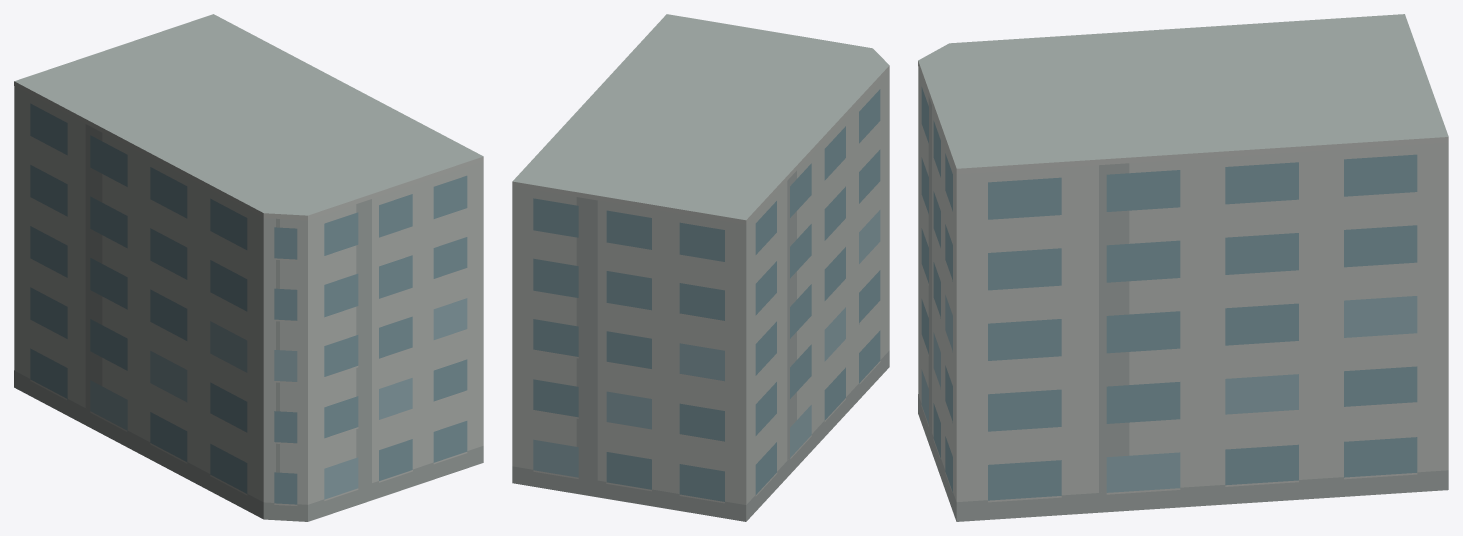
File: survey-upis-32574331.glb
The picture shows the model from 3 angles, left to right: view 1: azimuth 30°, elevation 25°; view 2: azimuth 150°, elevation 25°; view 3: azimuth 270°, elevation 25°; orthographic projection. The views are drawn at different scales.
Visible parts, largest first — view 1: survey-upis-32574331.tmp; view 2: survey-upis-32574331.tmp; view 3: survey-upis-32574331.tmp.
Part boxes in pixels (bbox=[...]): survey-upis-32574331.tmp: bbox=[14, 14, 483, 521]; survey-upis-32574331.tmp: bbox=[512, 14, 889, 521]; survey-upis-32574331.tmp: bbox=[918, 14, 1448, 521].
Size of the model in its own units: 14.34 by 15.25 by 20.78.
